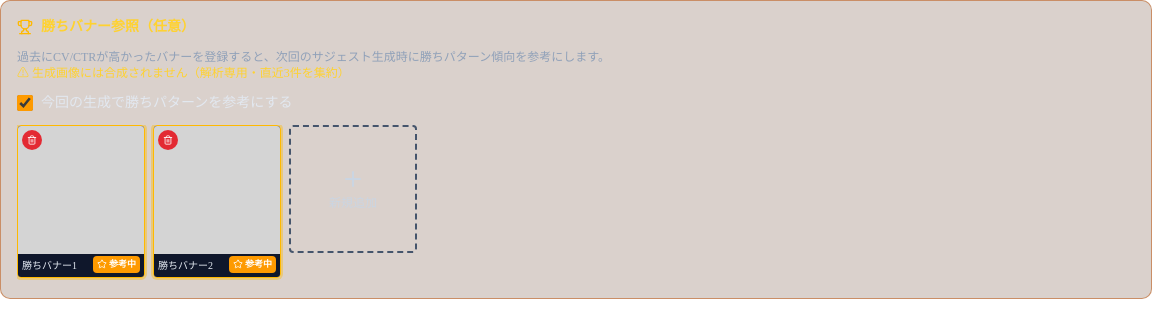
it: 削除 › 確認に OK したら DELETE し一覧から外す
Click the 1st button titled "削除".
click(32, 140)  # box [22,130,42,150]
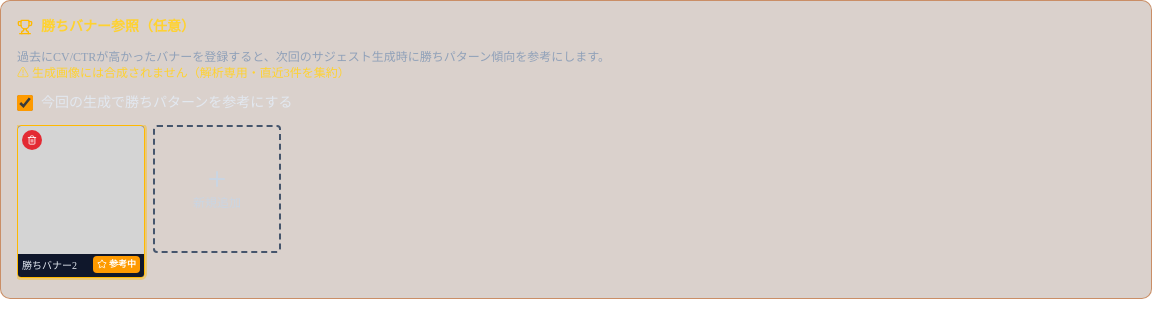
expect the text "勝ちバナー2" is shown: met, box [22,260,77,271]
expect the text "勝ちバナー1" is gone: met
